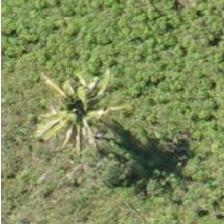coconut_tree: (30, 64, 120, 154)
